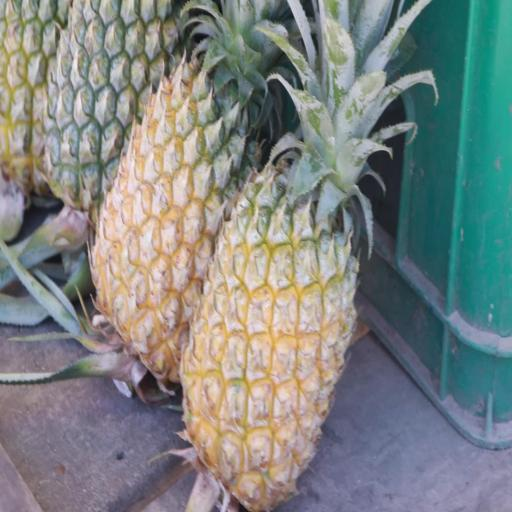Pineapple - v8 v1: (180, 105, 361, 512), (90, 0, 270, 396)
